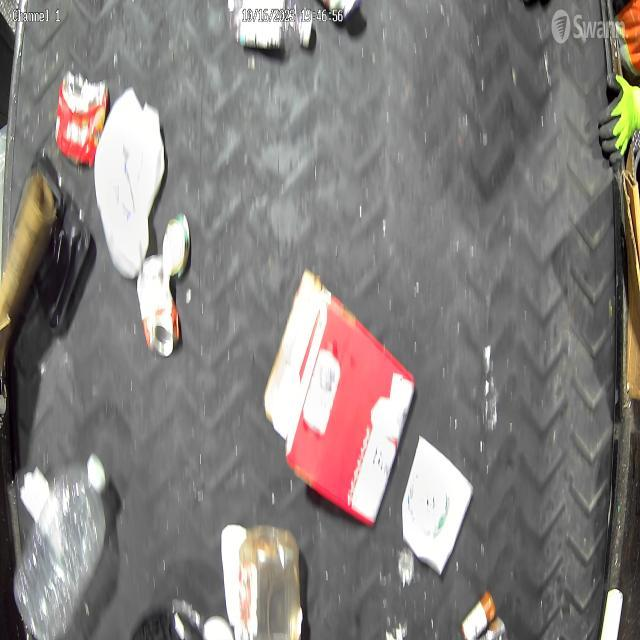can: (54, 70, 109, 168), (136, 252, 182, 358), (162, 210, 192, 278)
milk_jug: (94, 84, 166, 280)
plastic_bottle: (11, 452, 108, 640)
